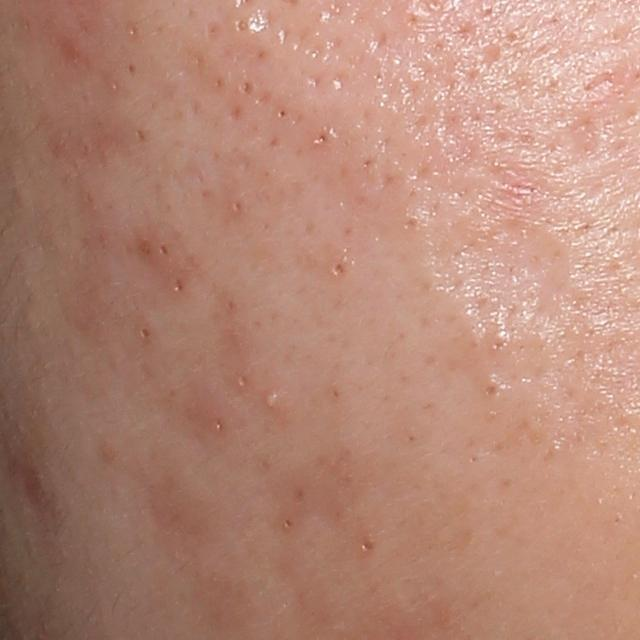atrophic_scar: (418, 169, 578, 424), (551, 118, 603, 169)
comedo: (479, 375, 511, 406), (327, 260, 352, 286), (231, 196, 248, 217), (237, 77, 254, 97), (234, 374, 249, 390), (137, 325, 151, 342), (173, 279, 186, 297), (158, 240, 170, 257)
pustule: (261, 388, 282, 413)
